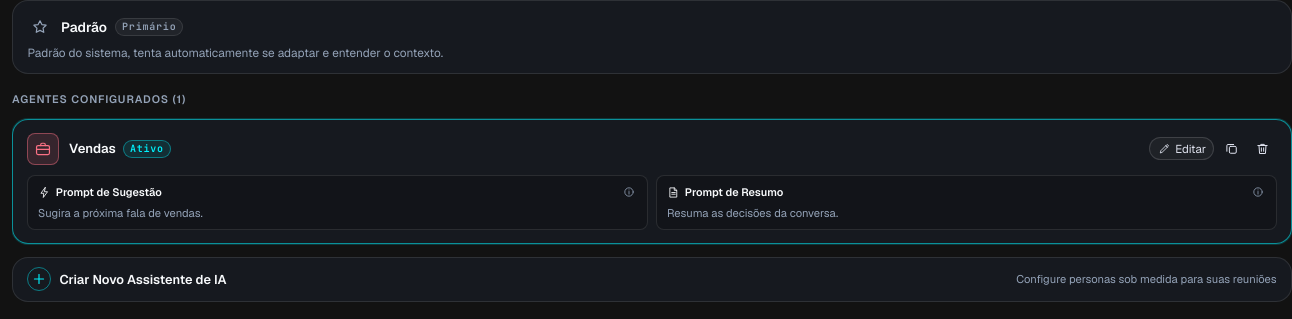
it: AssistantsSettings › excluir o agente ativo volta a seleção para o Padrão
Click the button named "Excluir agente Vendas": [1263, 149] box [1249, 135, 1277, 163]
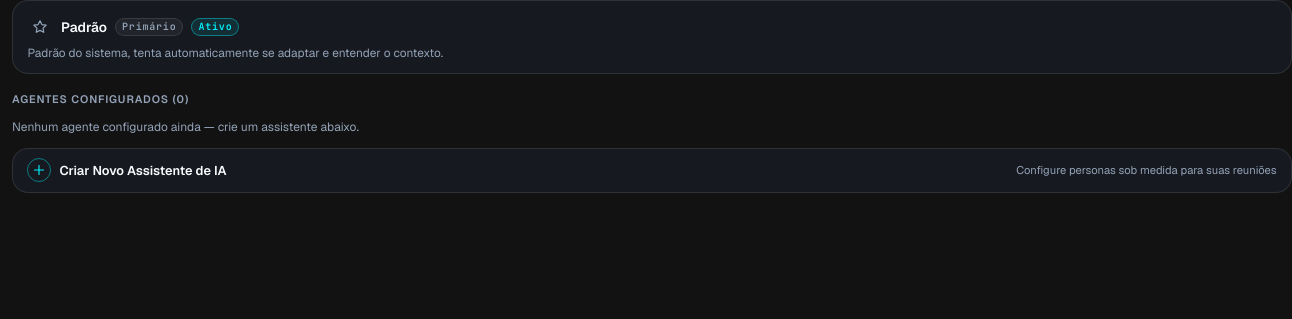
Expected: the element named "Assistente Padrão" shows "Ativo", [198, 20, 232, 33]
